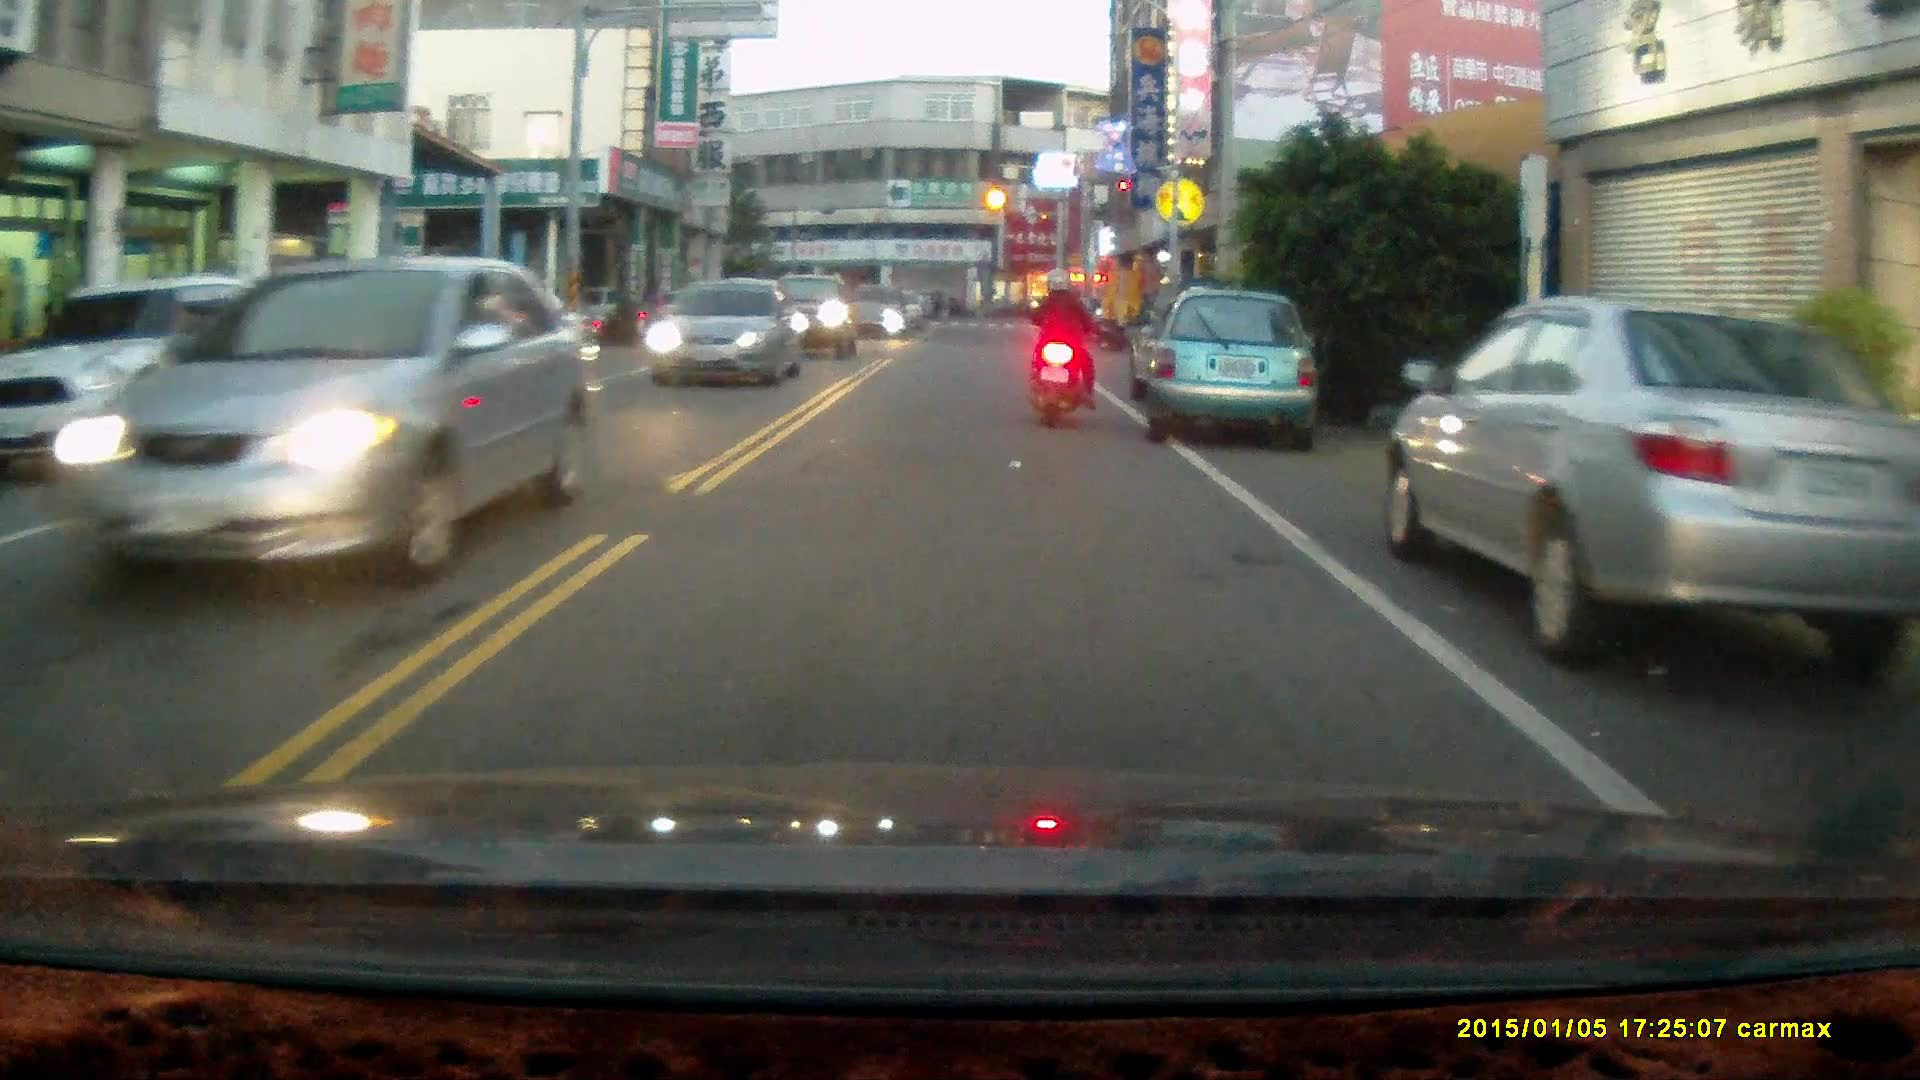rider: (1027, 262, 1106, 426)
vehicle: (1384, 294, 1911, 665), (71, 254, 580, 585), (1, 272, 304, 480), (1143, 290, 1321, 442), (647, 277, 801, 389), (740, 269, 863, 362)
